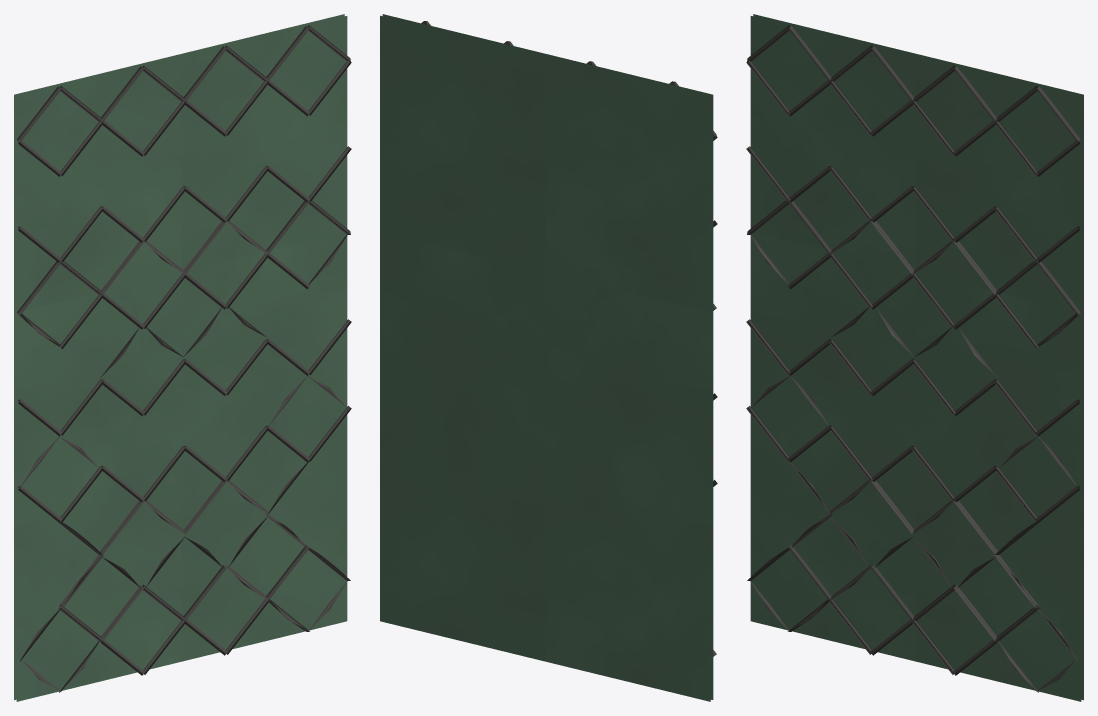
Rendered from Window_Leaded_1_LOD1.gltf.
The picture shows the model from 3 angles, left to right: view 1: azimuth 30°, elevation 25°; view 2: azimuth 150°, elevation 25°; view 3: azimuth 330°, elevation 25°; orthographic projection.
Parts seen in each view (by area): view 1: Window_Leaded_1_LOD1; view 2: Window_Leaded_1_LOD1; view 3: Window_Leaded_1_LOD1.
Boxes of the visible parts, left/top/right/bottom form: Window_Leaded_1_LOD1: left=14, top=14, right=351, bottom=701; Window_Leaded_1_LOD1: left=380, top=14, right=717, bottom=701; Window_Leaded_1_LOD1: left=746, top=14, right=1083, bottom=701.
Size of the model in its own units: 0.8073 by 1.41 by 0.026.
2 materials, 2 textured.
